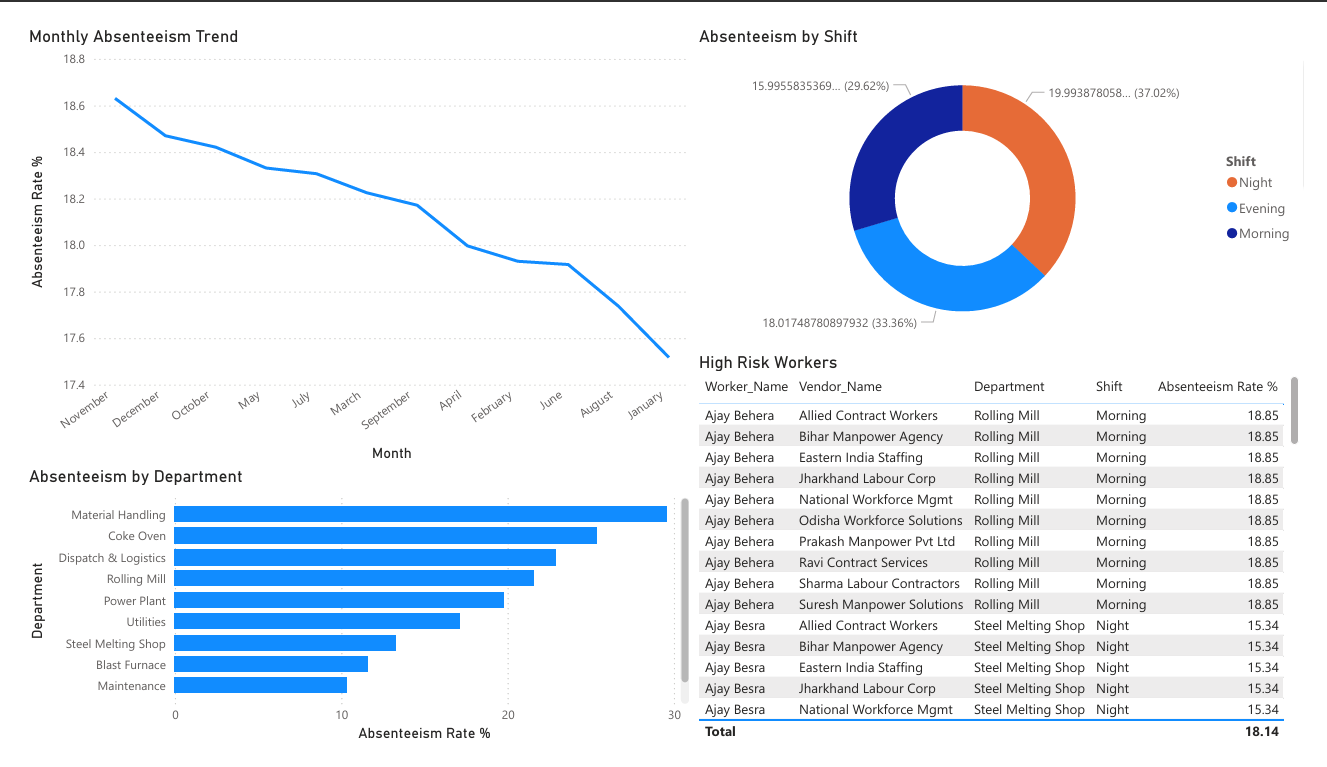

This screenshot's page, from the dashboard's own definition file:
{"tool":"powerbi","page":{"name":"Absenteeism Analysis","canvas":[1280,720],"ordinal":2},"visuals":[{"type":"lineChart","title":"Monthly Absenteeism Trend","fields":{"Category":["contractor_workforce_risk attendance_log.Month"],"Y":["contractor_workforce_risk attendance_log.Absenteeism Rate %"]},"box":[0,0,670,440],"z":0},{"type":"donutChart","title":"Absenteeism by Shift","fields":{"Category":["contractor_workforce_risk attendance_log.Shift"],"Y":["contractor_workforce_risk attendance_log.Absenteeism Rate %"]},"box":[670,0,610,326],"z":1000},{"type":"clusteredBarChart","title":"Absenteeism by Department","fields":{"Y":["contractor_workforce_risk attendance_log.Absenteeism Rate %"],"Category":["contractor_workforce_risk worker_master.Department"]},"box":[0,440,670,280],"z":2000},{"type":"tableEx","title":"High Risk Workers","fields":{"Values":["contractor_workforce_risk worker_master.Worker_Name","contractor_workforce_risk vendor_master.Vendor_Name","contractor_workforce_risk worker_master.Department","contractor_workforce_risk worker_master.Shift","contractor_workforce_risk attendance_log.Absenteeism Rate %"]},"box":[670,326,610,394],"z":3000}]}

Visuals, with their boxes in screenshot pixels (x1, y1, x2, y2), scaled from the page's 1280x720 canvas onto the 1327x767 screenshot:
"Monthly Absenteeism Trend" lineChart: {"left": 0, "top": 0, "right": 695, "bottom": 469}
"Absenteeism by Shift" donutChart: {"left": 695, "top": 0, "right": 1326, "bottom": 347}
"Absenteeism by Department" clusteredBarChart: {"left": 0, "top": 469, "right": 695, "bottom": 766}
"High Risk Workers" tableEx: {"left": 695, "top": 347, "right": 1326, "bottom": 766}
